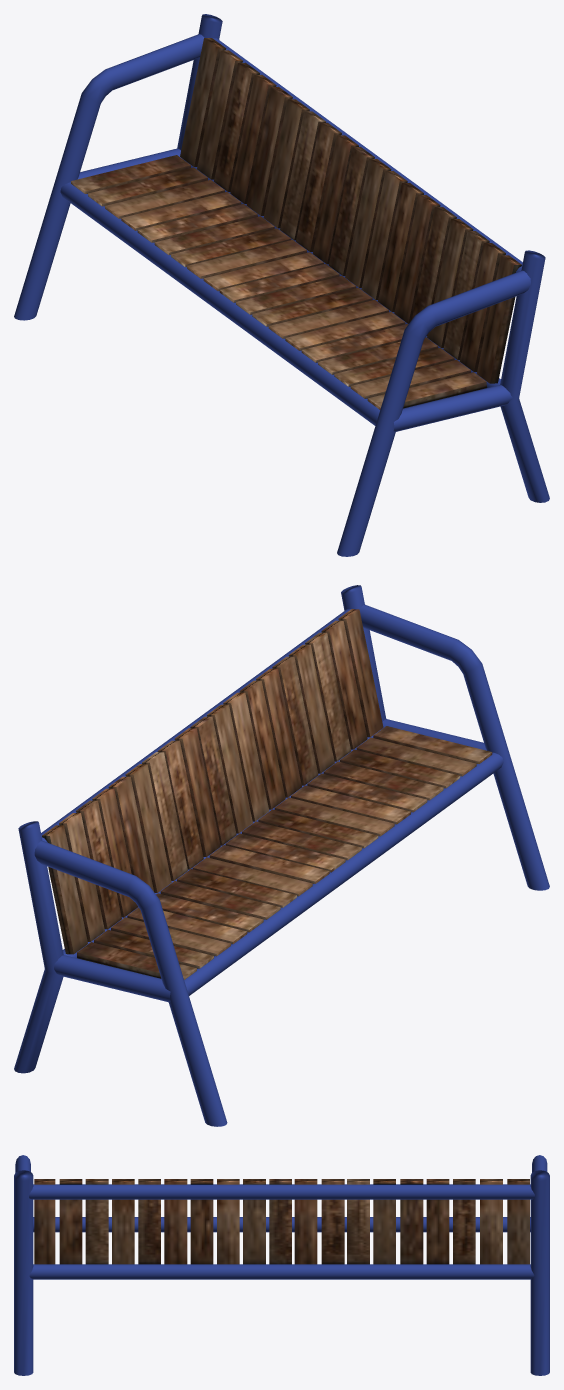
File: parkbank.fbx
The picture shows the model from 3 angles, top to bottom: view 1: azimuth 30°, elevation 25°; view 2: azimuth 150°, elevation 25°; view 3: azimuth 270°, elevation 25°; orthographic projection. The views are drawn at different scales.
Visible parts, largest first — view 1: Mesh; view 2: Mesh; view 3: Mesh.
Boxes of the visible parts, x1,y1,x2,y2 form: Mesh: [14, 14, 549, 556]; Mesh: [14, 585, 549, 1126]; Mesh: [14, 1155, 549, 1375].
Bounding box in the file's own units: 75.5 × 87.33 × 208.
